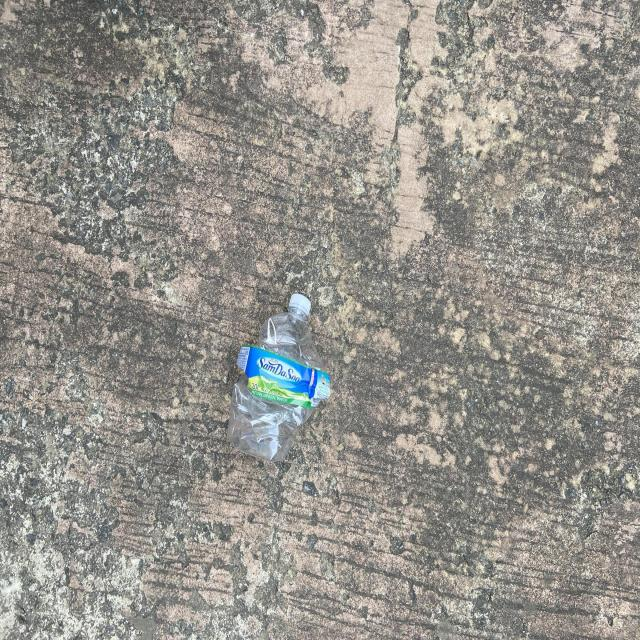plastic: (227, 294, 330, 462)
